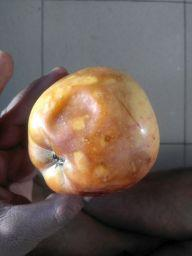Apple Rotten: (26, 64, 162, 198)
